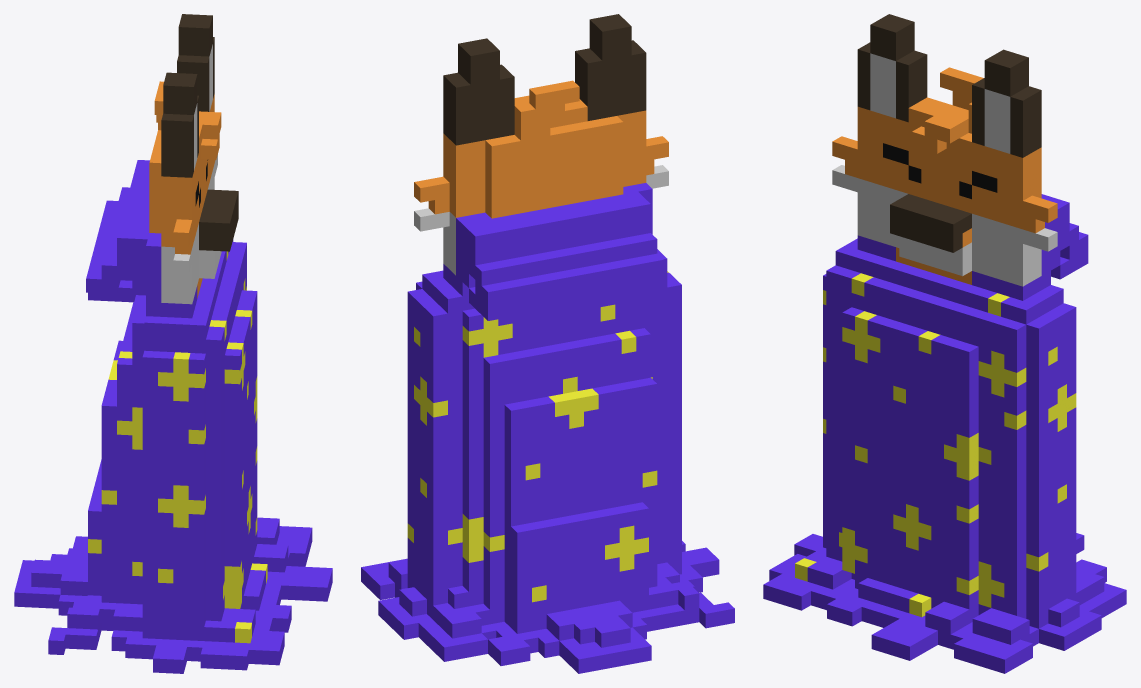
The model's file is zorritoFinal.glb.
3 renders of one model, left to right at view 1: azimuth 30°, elevation 25°; view 2: azimuth 150°, elevation 25°; view 3: azimuth 270°, elevation 25°, orthographic. The views are drawn at different scales.
Visible parts, largest first — view 1: Node1; view 2: Node1; view 3: Node1.
Boxes of the visible parts, left/top/right/bottom form: Node1: left=14, top=14, right=332, bottom=673; Node1: left=361, top=14, right=734, bottom=673; Node1: left=763, top=14, right=1126, bottom=673.
Bounding box in the file's own units: 0.3613 × 0.6035 × 0.3561.
Materials: 1 (1 with a texture image).
